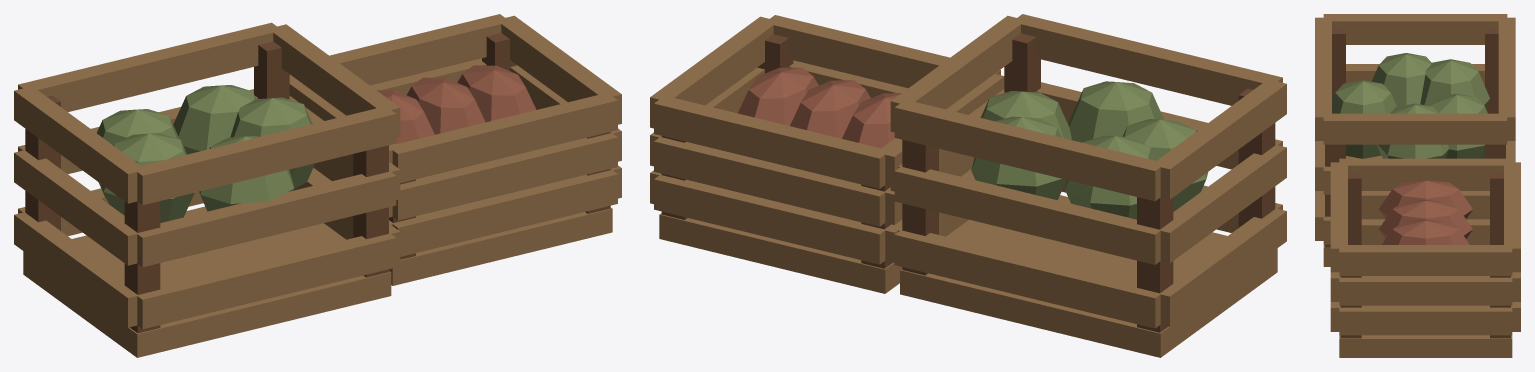
File: Prop_Daily_ProduceCrates_001.glb
The picture shows the model from 3 angles, left to right: view 1: azimuth 30°, elevation 25°; view 2: azimuth 150°, elevation 25°; view 3: azimuth 270°, elevation 25°; orthographic projection. The views are drawn at different scales.
Visible parts, largest first — view 1: Prop_Daily_ProduceCrates_001; view 2: Prop_Daily_ProduceCrates_001; view 3: Prop_Daily_ProduceCrates_001.
Boxes of the visible parts, left/top/right/bottom form: Prop_Daily_ProduceCrates_001: left=14, top=14, right=621, bottom=357; Prop_Daily_ProduceCrates_001: left=650, top=14, right=1286, bottom=357; Prop_Daily_ProduceCrates_001: left=1315, top=14, right=1520, bottom=357.
Size of the model in its own units: 1.78 by 0.63 by 0.785.
